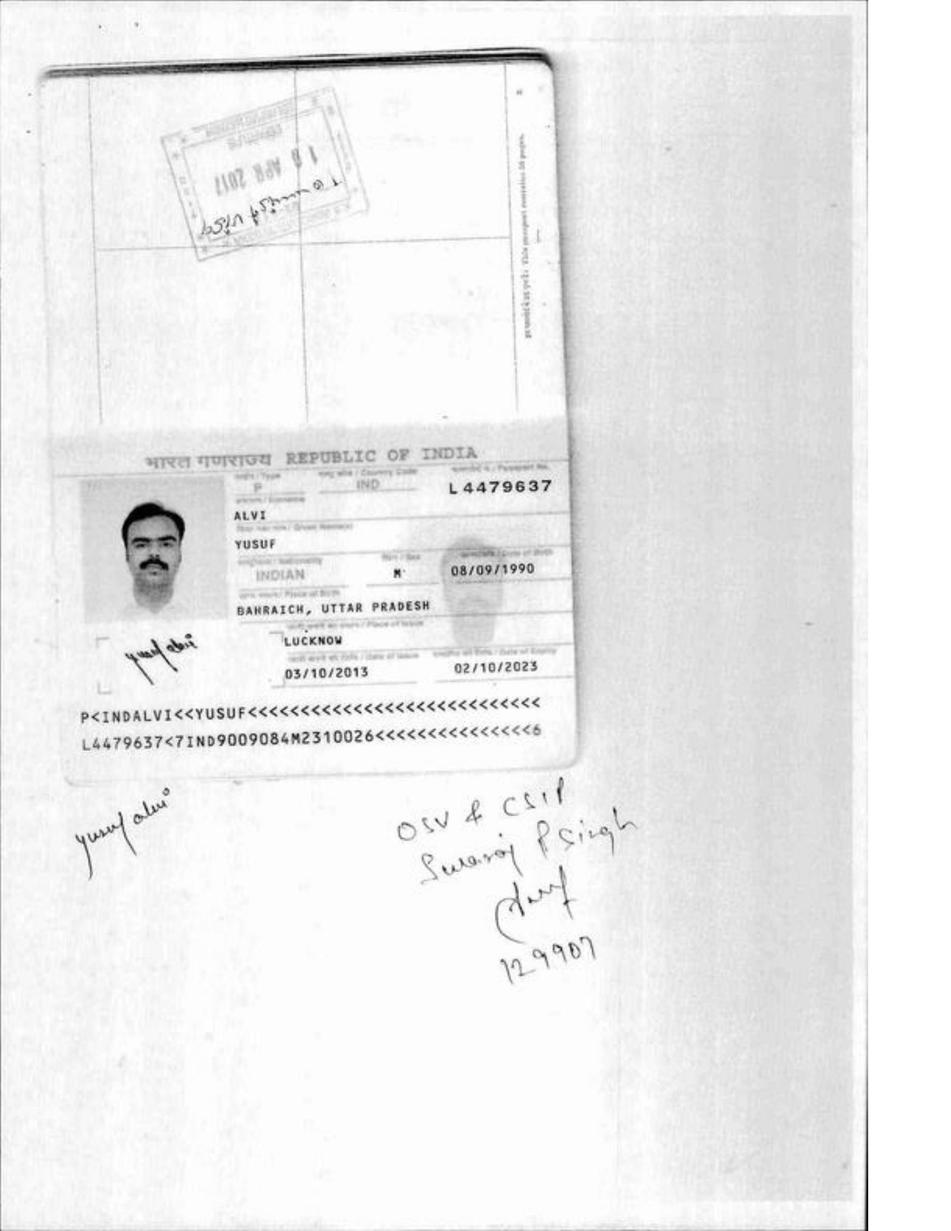DOB: (439, 557, 546, 582)
Surname: (227, 500, 279, 524)
country_code: (353, 477, 396, 493)
date_of_expiry: (442, 656, 552, 677)
date_of_issue: (283, 662, 379, 684)
details: (70, 695, 556, 753)
name: (224, 528, 368, 555)
nationality: (239, 563, 317, 587)
passport_no: (441, 473, 557, 501)
photo: (90, 485, 218, 614)
place_of_birth: (228, 596, 440, 620)
place_of_issue: (278, 632, 349, 651)
sex: (379, 561, 417, 586)
sign: (116, 624, 218, 681)
type: (237, 478, 274, 499)
